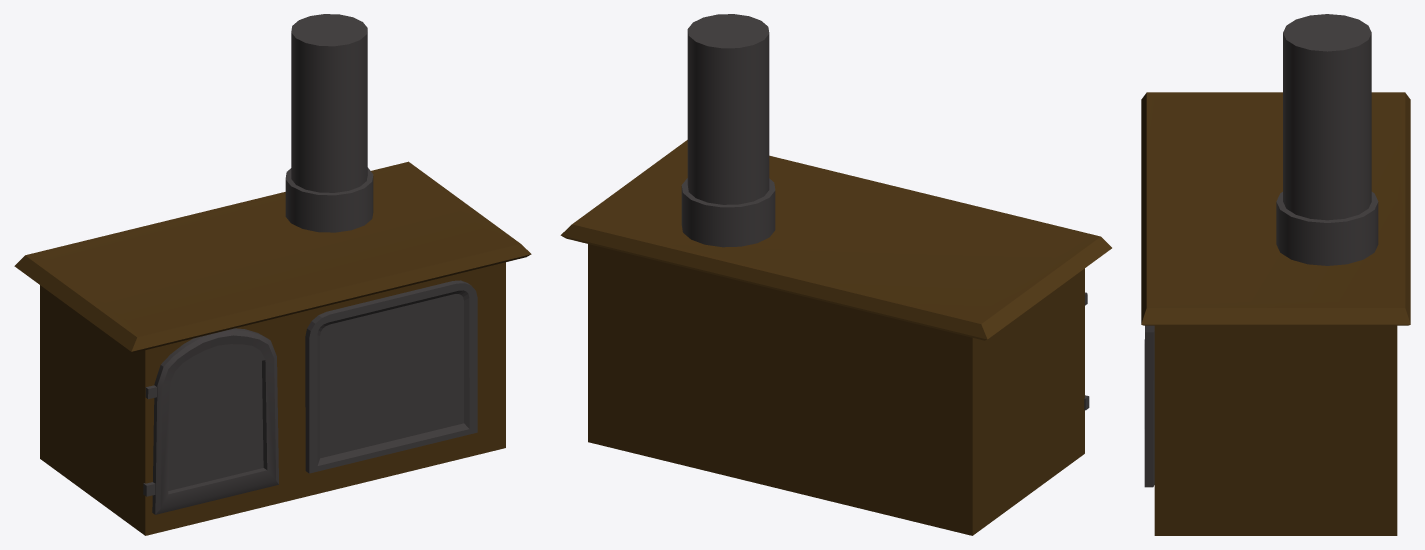
File: SM_Oven.fbx
3 renders of one model, left to right at view 1: azimuth 30°, elevation 25°; view 2: azimuth 150°, elevation 25°; view 3: azimuth 270°, elevation 25°, orthographic. The views are drawn at different scales.
Visible parts, largest first — view 1: SM_Oven, SM_Door, SM_DoorLeft, SM_Tube; view 2: SM_Oven, SM_Tube; view 3: SM_Oven, SM_Tube, SM_Door.
Part boxes in pixels (x1,y1,x2,y2): SM_Oven: (14,161,531,535); SM_Door: (305,280,477,473); SM_DoorLeft: (143,328,278,514); SM_Tube: (285,14,373,232); SM_Oven: (560,140,1111,535); SM_Tube: (681,14,775,247); SM_Oven: (1141,92,1410,535); SM_Tube: (1276,14,1378,265); SM_Door: (1144,325,1154,487).
Bounding box in the file's own units: 208 × 193 × 106.
